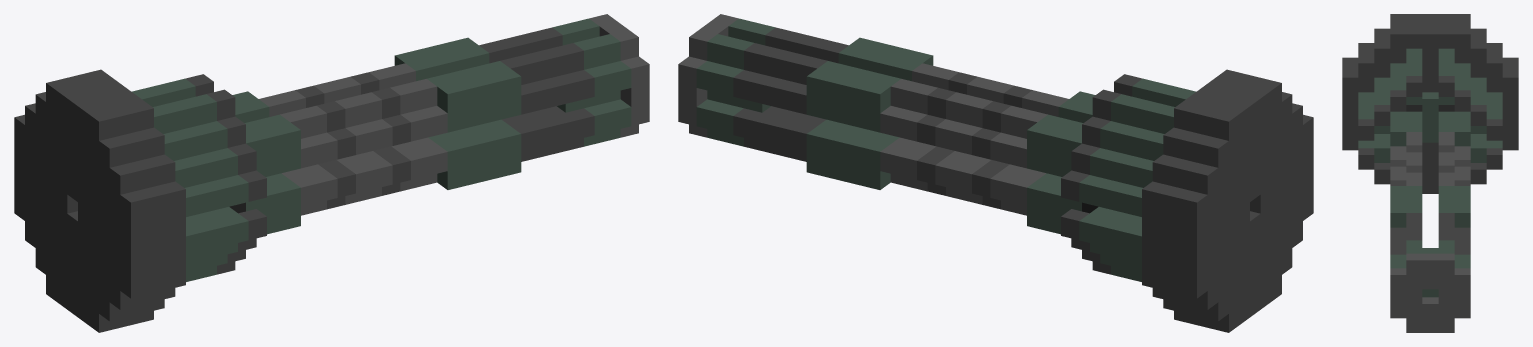
Rendered from GunHead.obj.
3 renders of one model, left to right at view 1: azimuth 30°, elevation 25°; view 2: azimuth 150°, elevation 25°; view 3: azimuth 270°, elevation 25°, orthographic. The views are drawn at different scales.
Bounding box in the file's own units: 30 × 11 × 11.
Materials: 1 (1 with a texture image).
